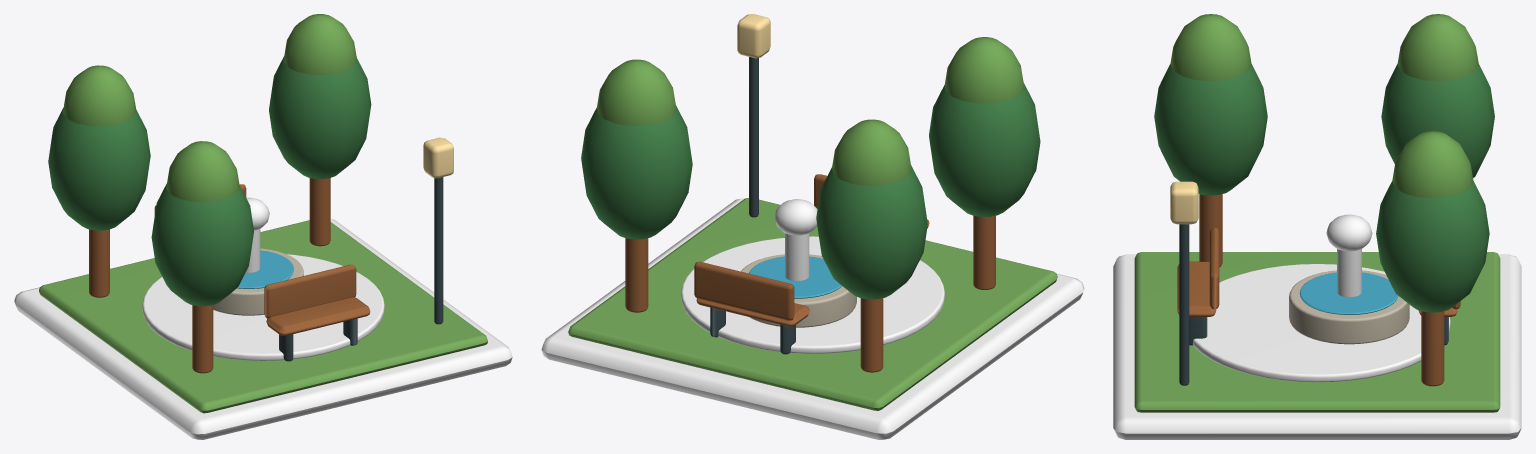
The model's file is park.glb.
3 views of the same model, side by side, from view 1: azimuth 30°, elevation 25°; view 2: azimuth 150°, elevation 25°; view 3: azimuth 270°, elevation 25° (orthographic). The views are drawn at different scales.
Parts seen in each view (by area): view 1: Batch_Leaves_, Garden bed, Batch_Porcelain_, Batch_Leaf tips_, Batch_Honey wood_, Batch_Dark metal_, Fountain basin, Still water, Lamp; view 2: Batch_Leaves_, Garden bed, Batch_Porcelain_, Batch_Leaf tips_, Batch_Honey wood_, Batch_Dark metal_, Fountain basin, Still water, Lamp, Fountain pillar; view 3: Batch_Porcelain_, Batch_Leaves_, Garden bed, Batch_Leaf tips_, Batch_Honey wood_, Fountain basin, Still water, Batch_Dark metal_, Lamp, Fountain pillar.
Part boxes in pixels (bbox=[...]): Batch_Leaves_: bbox=[48, 56, 371, 306]; Garden bed: bbox=[39, 220, 487, 413]; Batch_Porcelain_: bbox=[14, 197, 512, 439]; Batch_Leaf tips_: bbox=[63, 14, 356, 202]; Batch_Honey wood_: bbox=[89, 178, 370, 373]; Batch_Dark metal_: bbox=[279, 177, 443, 361]; Fountain basin: bbox=[213, 248, 303, 315]; Still water: bbox=[237, 250, 293, 288]; Lamp: bbox=[423, 137, 453, 178]; Batch_Leaves_: bbox=[581, 83, 1040, 299]; Garden bed: bbox=[568, 198, 1057, 410]; Batch_Porcelain_: bbox=[541, 198, 1084, 439]; Batch_Leaf tips_: bbox=[597, 37, 1024, 185]; Batch_Honey wood_: bbox=[625, 174, 995, 372]; Batch_Dark metal_: bbox=[710, 57, 795, 354]; Fountain basin: bbox=[741, 254, 856, 327]; Still water: bbox=[749, 256, 841, 298]; Lamp: bbox=[737, 14, 770, 58]; Fountain pillar: bbox=[785, 233, 809, 281]; Batch_Porcelain_: bbox=[1113, 214, 1521, 439]; Batch_Leaves_: bbox=[1154, 64, 1494, 312]; Garden bed: bbox=[1134, 252, 1500, 412]; Batch_Leaf tips_: bbox=[1170, 14, 1478, 198]; Batch_Honey wood_: bbox=[1177, 194, 1460, 386]; Fountain basin: bbox=[1289, 270, 1409, 344]; Still water: bbox=[1299, 272, 1398, 314]; Batch_Dark metal_: bbox=[1179, 224, 1448, 385]; Lamp: bbox=[1170, 181, 1198, 224]; Fountain pillar: bbox=[1337, 249, 1361, 297].
Bounding box in the file's own units: 2.3 × 1.76 × 2.3.
